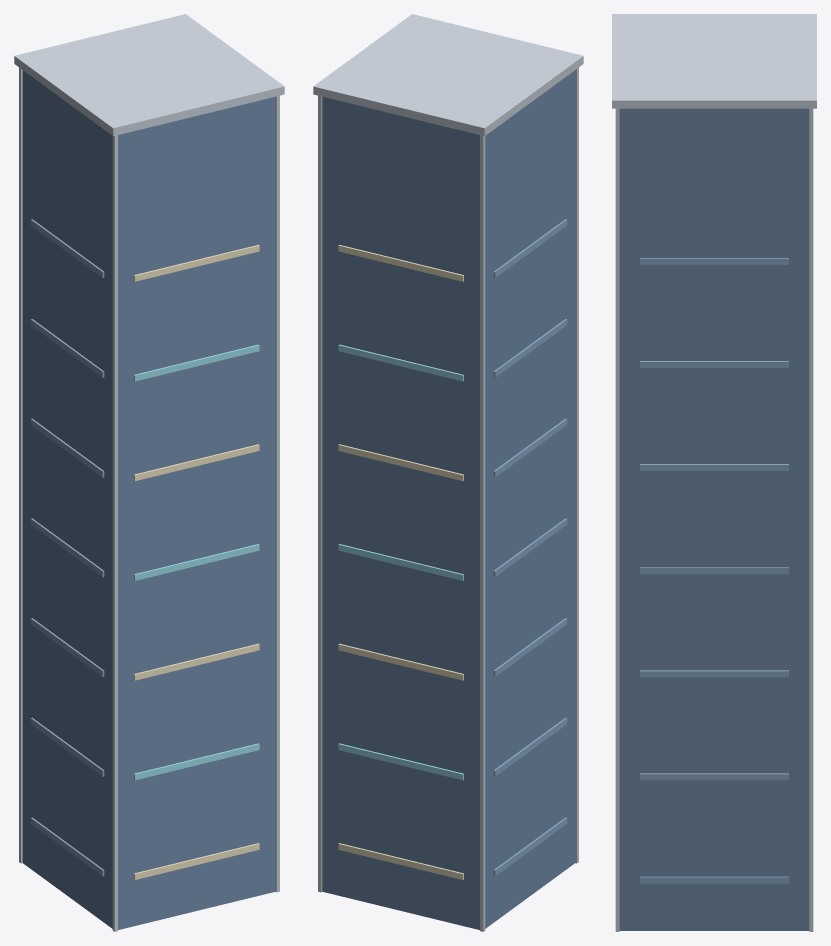
The model's file is rascacielos_medio.glb.
3 renders of one model, left to right at view 1: azimuth 30°, elevation 25°; view 2: azimuth 150°, elevation 25°; view 3: azimuth 270°, elevation 25°, orthographic. The views are drawn at different scales.
Parts seen in each view (by area): view 1: rascacielos_medio; view 2: rascacielos_medio; view 3: rascacielos_medio.
Boxes of the visible parts, x1,y1,x2,y2 form: rascacielos_medio: [14, 14, 284, 931]; rascacielos_medio: [313, 14, 583, 931]; rascacielos_medio: [612, 14, 816, 931].
Size of the model in its own units: 3.6 by 16.16 by 3.6.
